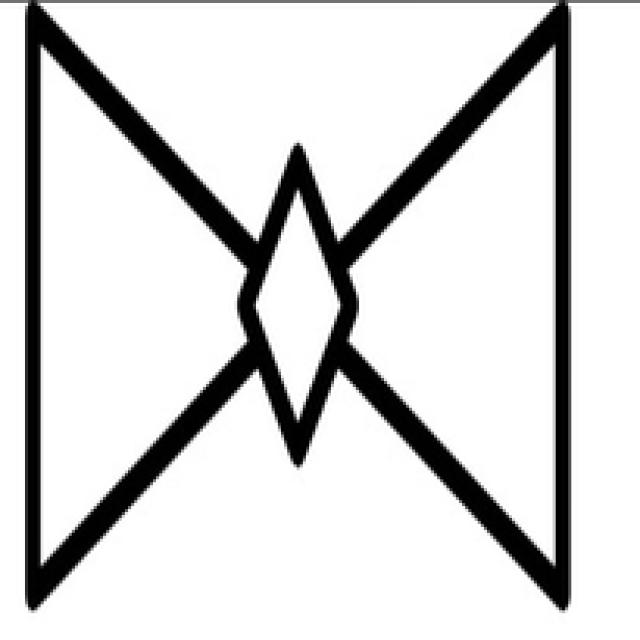Plug Valve: (32, 2, 564, 608)
